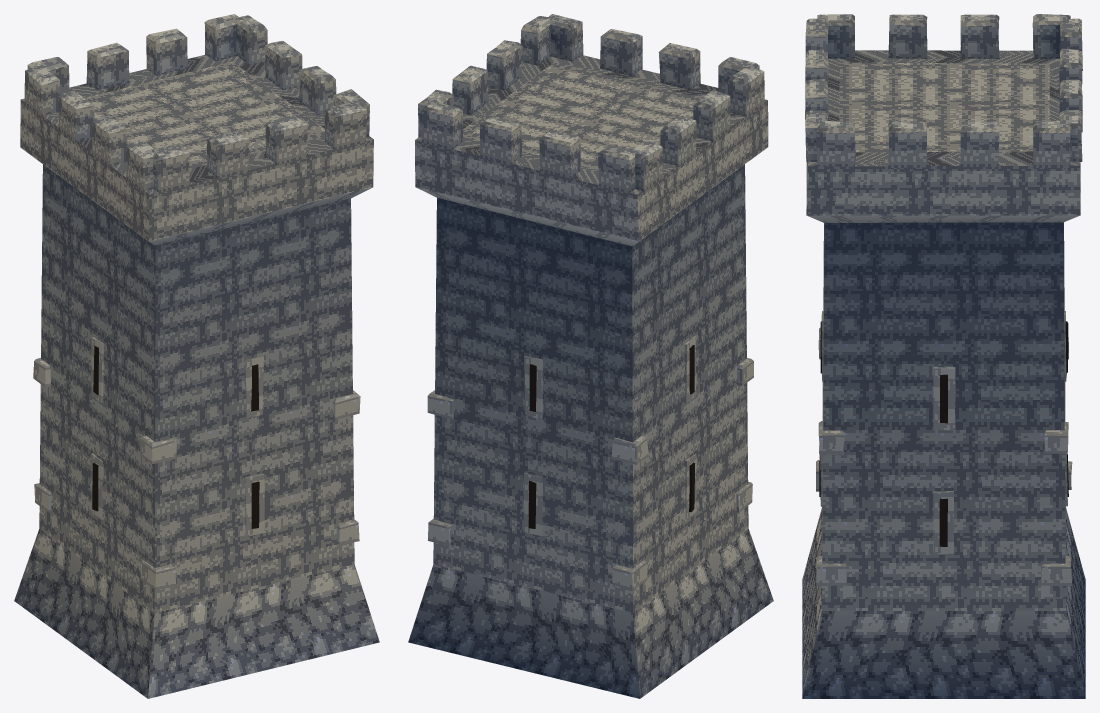
Rendered from cst.tower_square.glb.
The picture shows the model from 3 angles, left to right: view 1: azimuth 30°, elevation 25°; view 2: azimuth 150°, elevation 25°; view 3: azimuth 270°, elevation 25°; orthographic projection. The views are drawn at different scales.
Parts seen in each view (by area): view 1: kit_shaft, kit_top, kit_detail; view 2: kit_shaft, kit_top, kit_detail; view 3: kit_shaft, kit_top, kit_detail.
Boxes of the visible parts, bbox=[...] form: kit_shaft: bbox=[14, 164, 379, 698]; kit_top: bbox=[20, 14, 373, 245]; kit_detail: bbox=[33, 337, 360, 589]; kit_shaft: bbox=[408, 164, 773, 698]; kit_top: bbox=[415, 14, 768, 246]; kit_detail: bbox=[427, 336, 753, 590]; kit_shaft: bbox=[802, 222, 1085, 698]; kit_top: bbox=[805, 14, 1082, 222]; kit_detail: bbox=[816, 311, 1072, 586].
Size of the model in its own units: 5.8 by 12.85 by 5.8.
5 materials, 5 textured.
